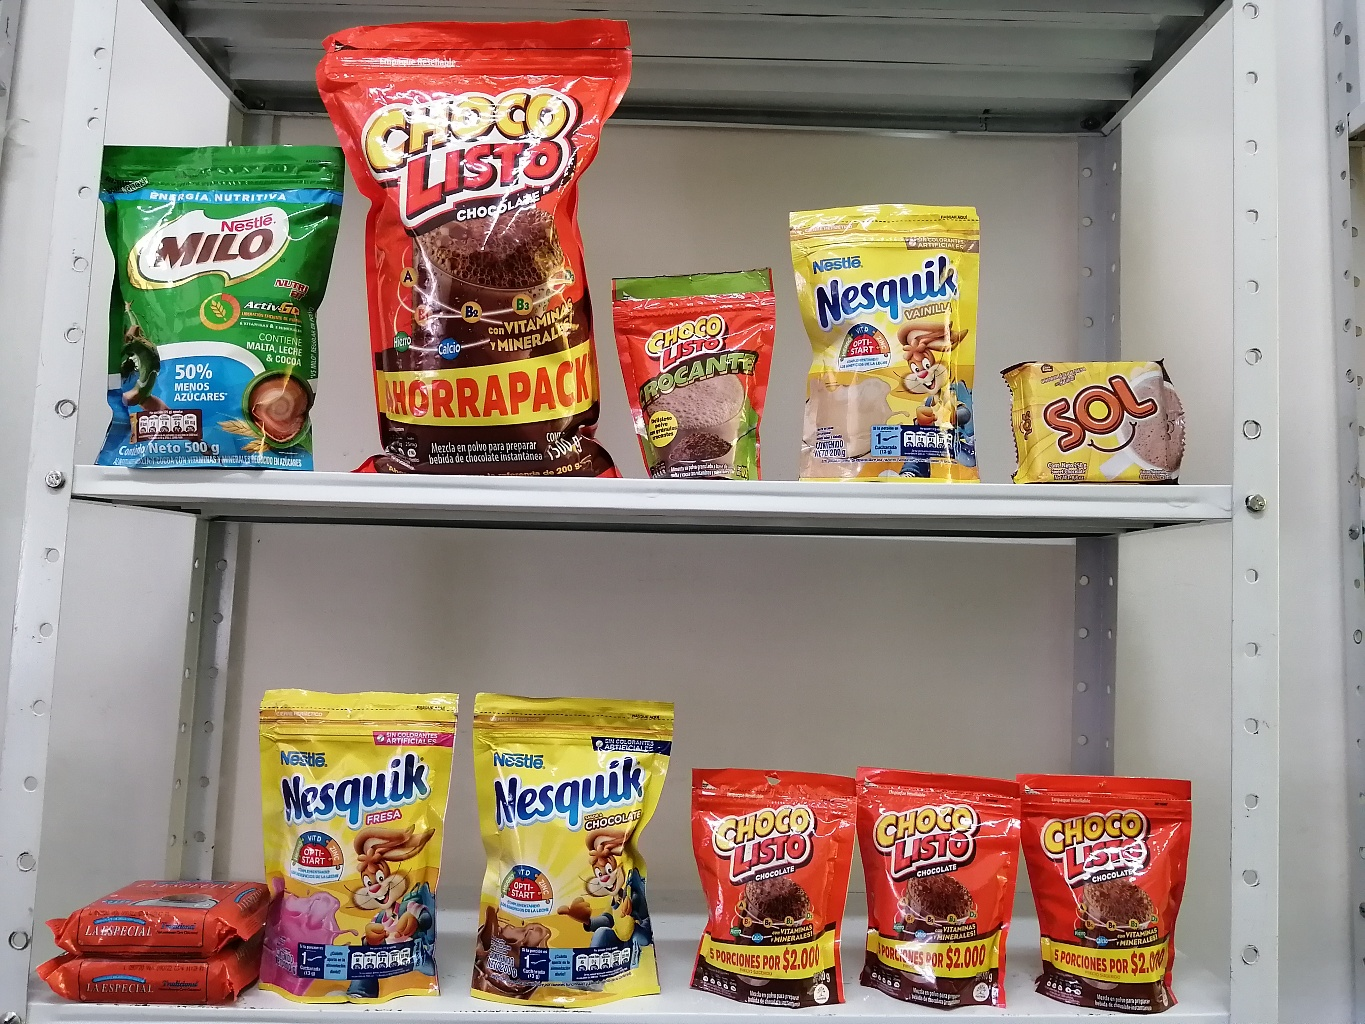COL0170102DYP10000: (602, 272, 783, 483)
COL0170103DYP1,500: (317, 20, 631, 472)
COL0170205DYP50000: (100, 141, 337, 475)
COL0170303DYP20000: (474, 688, 676, 1009)
COL0170305DYP20000: (261, 689, 445, 1002)
COL0170306DYP20000: (786, 207, 989, 483)
